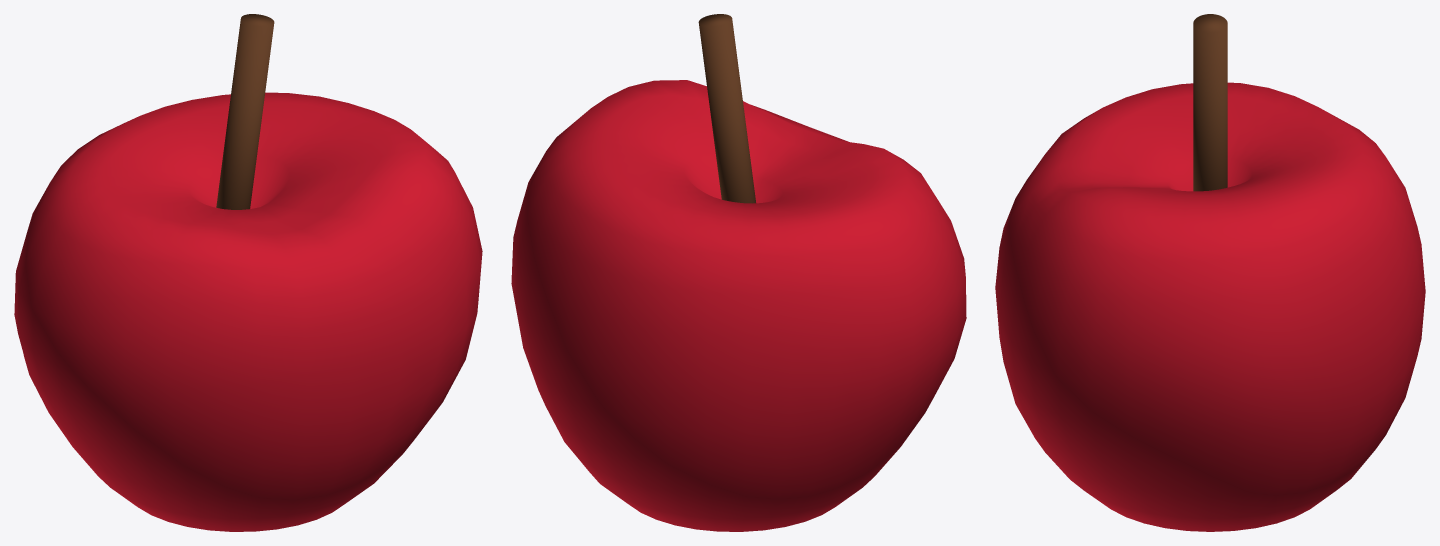
Rendered from Pomme_3D.glb.
The picture shows the model from 3 angles, left to right: view 1: azimuth 30°, elevation 25°; view 2: azimuth 150°, elevation 25°; view 3: azimuth 270°, elevation 25°; orthographic projection. The views are drawn at different scales.
Parts seen in each view (by area): view 1: AppleBody, AppleStem; view 2: AppleBody, AppleStem; view 3: AppleBody, AppleStem.
Boxes of the visible parts, bbox=[...] form: AppleBody: bbox=[14, 92, 482, 531]; AppleStem: bbox=[216, 14, 274, 209]; AppleBody: bbox=[511, 80, 966, 531]; AppleStem: bbox=[698, 14, 755, 203]; AppleBody: bbox=[995, 82, 1425, 531]; AppleStem: bbox=[1193, 14, 1227, 191].
Bounding box in the file's own units: 2.24 × 2.52 × 2.
